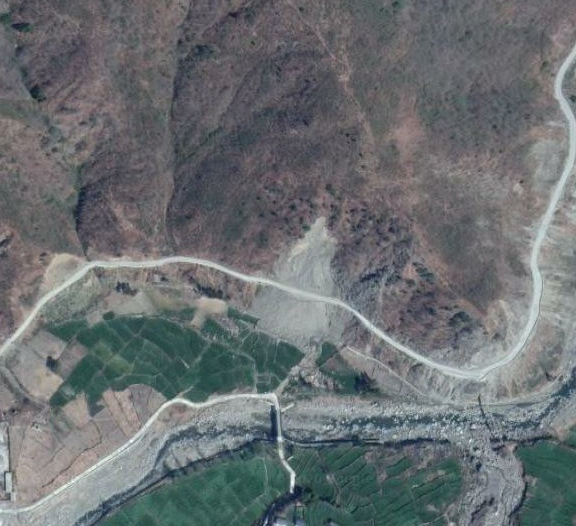slope: (251, 214, 353, 390), (36, 251, 90, 299)
